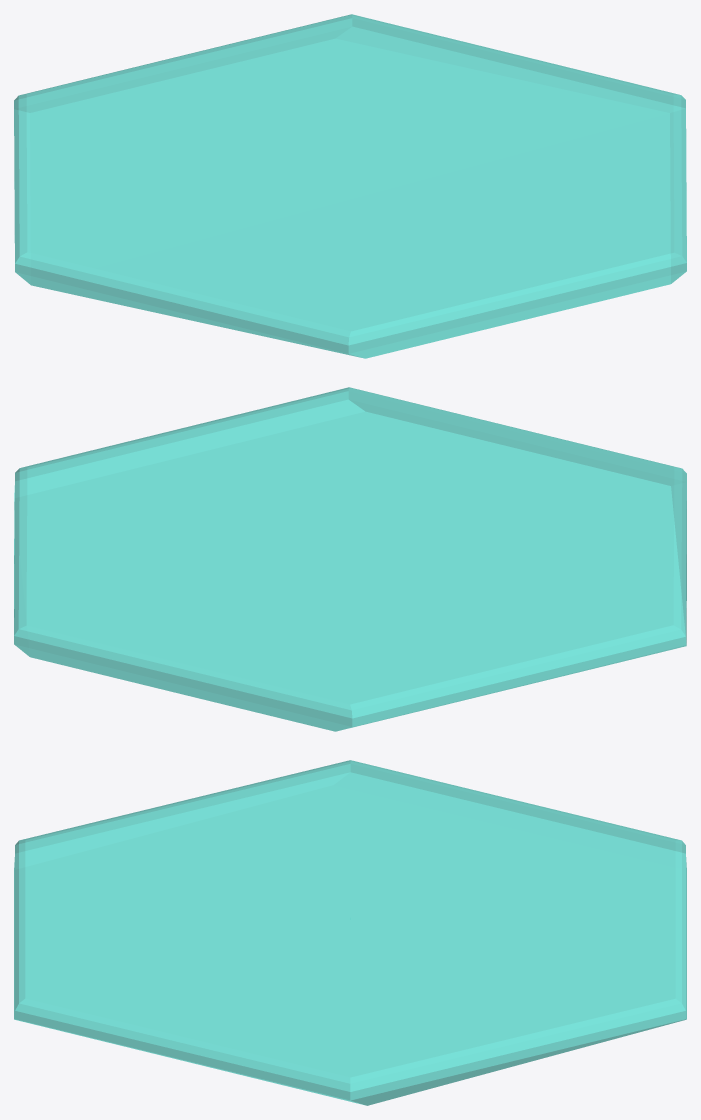
The model's file is Asset_BiomeBeach_Water.fbx.
The picture shows the model from 3 angles, top to bottom: view 1: azimuth 30°, elevation 25°; view 2: azimuth 150°, elevation 25°; view 3: azimuth 270°, elevation 25°; orthographic projection.
Parts seen in each view (by area): view 1: PolySurface_TilePlain_01; view 2: PolySurface_TilePlain_01; view 3: PolySurface_TilePlain_01.
Part boxes in pixels (x1,y1,x2,y2): PolySurface_TilePlain_01: [14, 14, 686, 358]; PolySurface_TilePlain_01: [14, 387, 686, 731]; PolySurface_TilePlain_01: [14, 760, 686, 1105].
Bounding box in the file's own units: 436 × 16.1 × 378.
